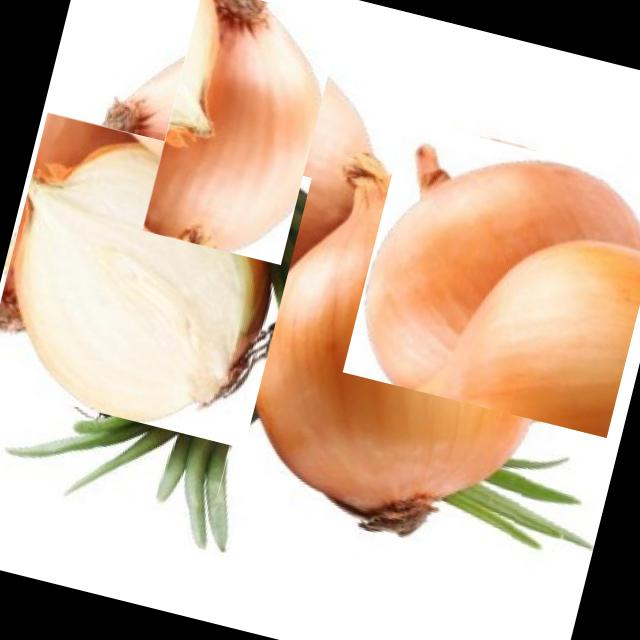Onion: (217, 142, 590, 568), (0, 114, 313, 447), (364, 159, 640, 389), (155, 2, 318, 249)
